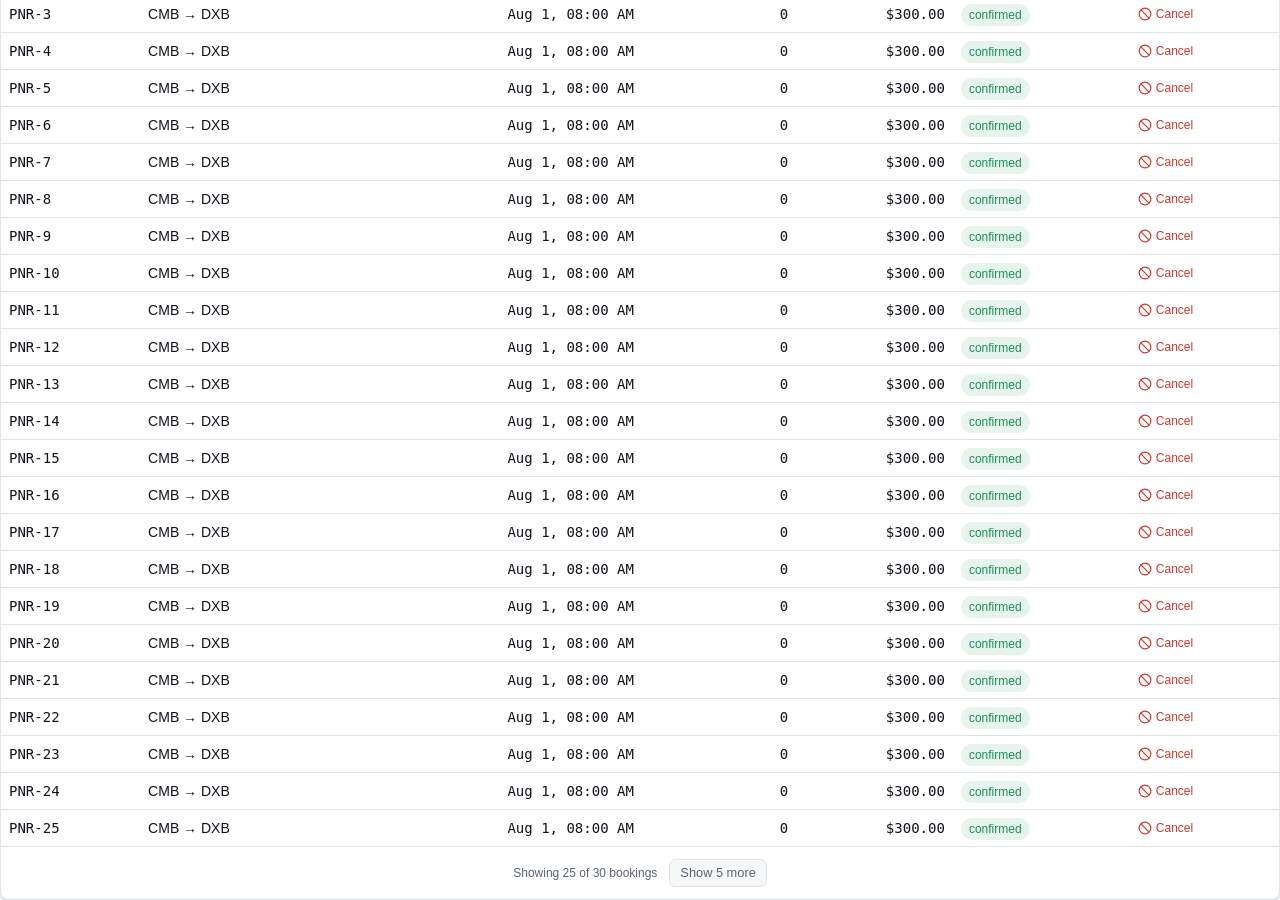
BookingsPanel › renders one page of bookings and offers the next page
(page scrolled)
Click the button "Show 5 more". click: coordinates (718, 872)
box: [669,858,767,886]
(page scrolled)
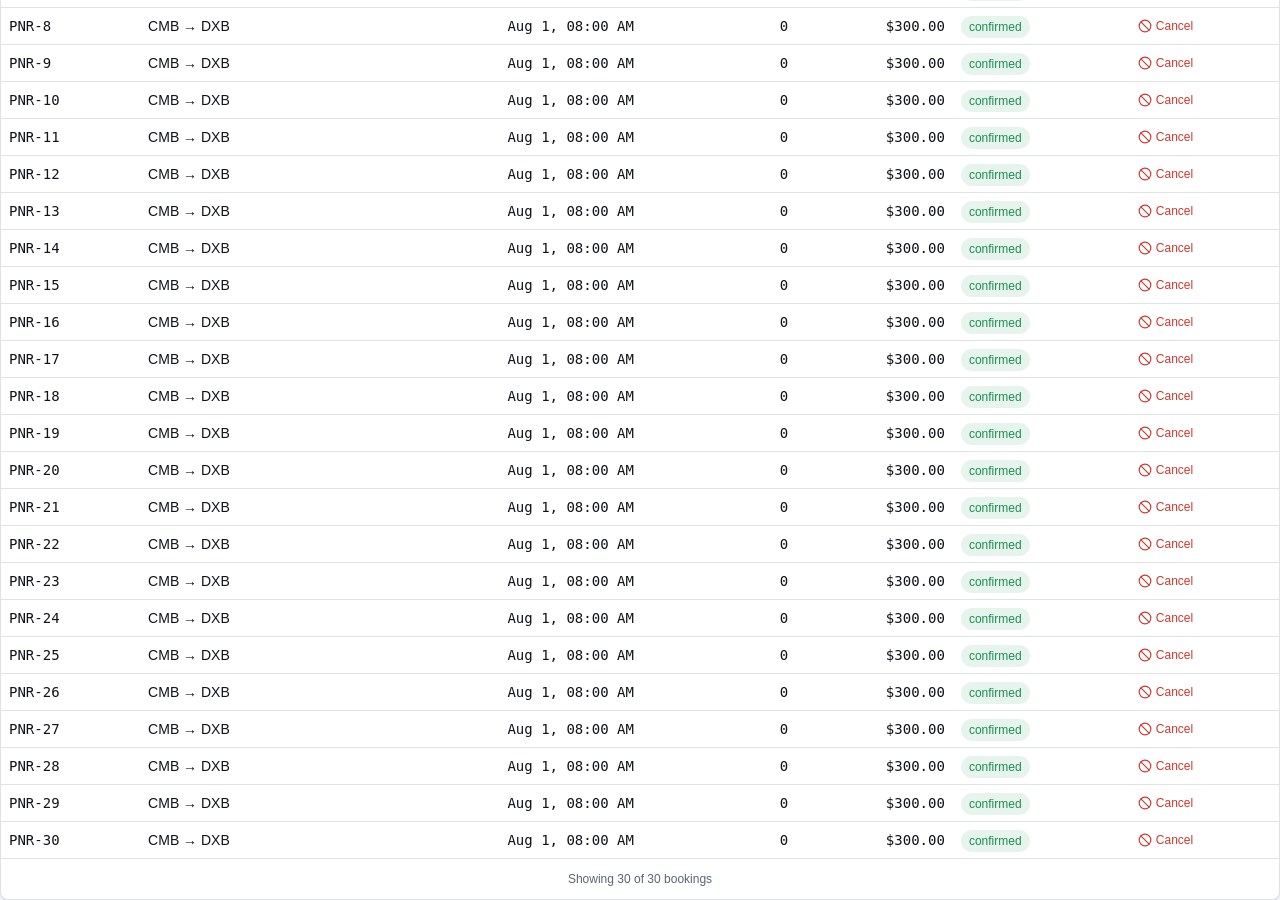
expect the text "Showing 30 of 30 bookings" is shown: met, box [1,858,1279,898]
